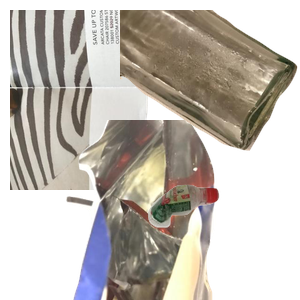glass: (120, 10, 300, 153)
paper: (10, 10, 250, 190)
plastic: (146, 182, 300, 300)
trash: (63, 120, 300, 300)
